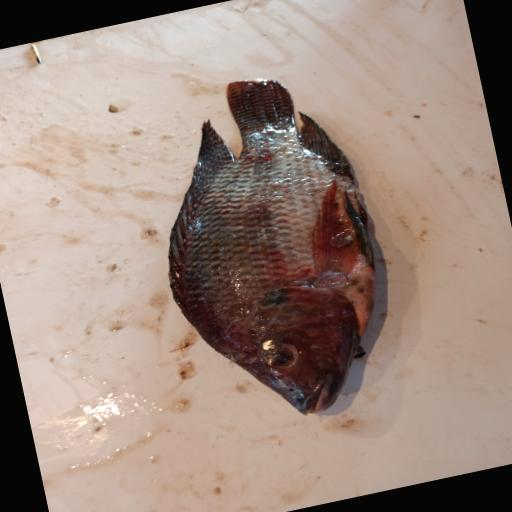Tilapia: (131, 60, 405, 437)
